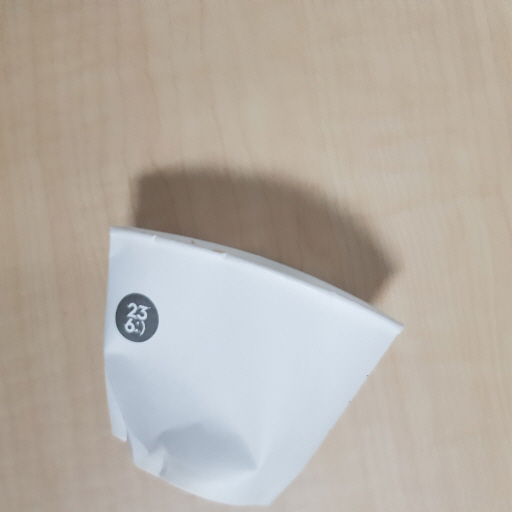Paper_1: (104, 221, 403, 504)
